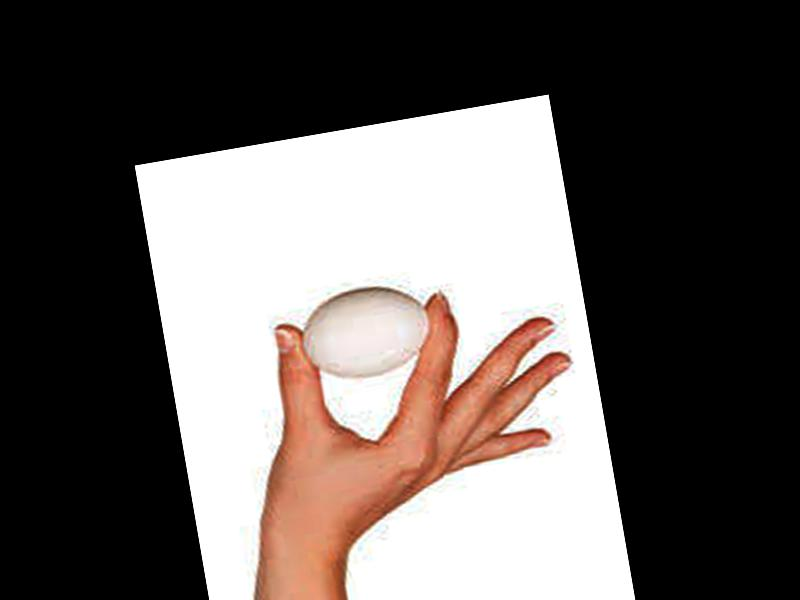Eggs: (295, 276, 437, 387)
